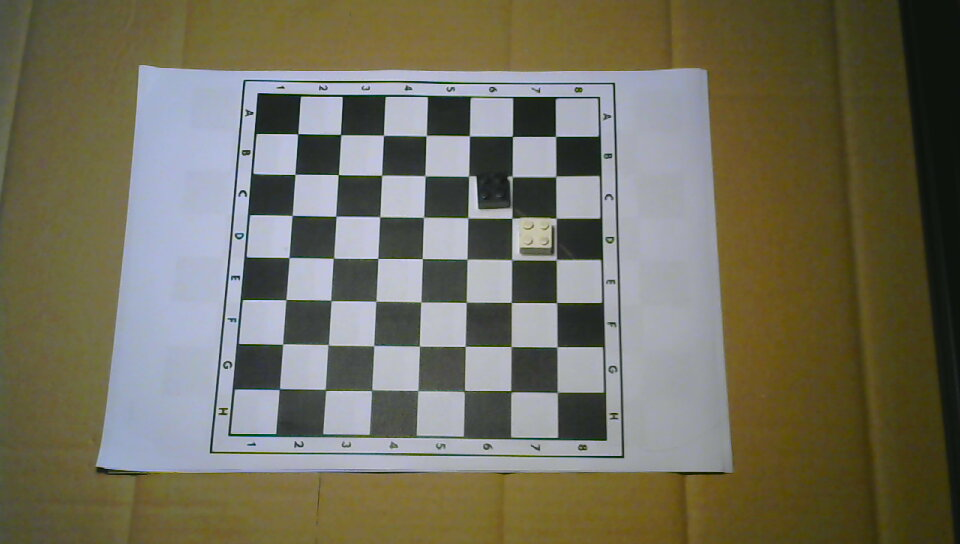bp: (475, 174, 511, 210)
wp: (517, 218, 555, 256)
